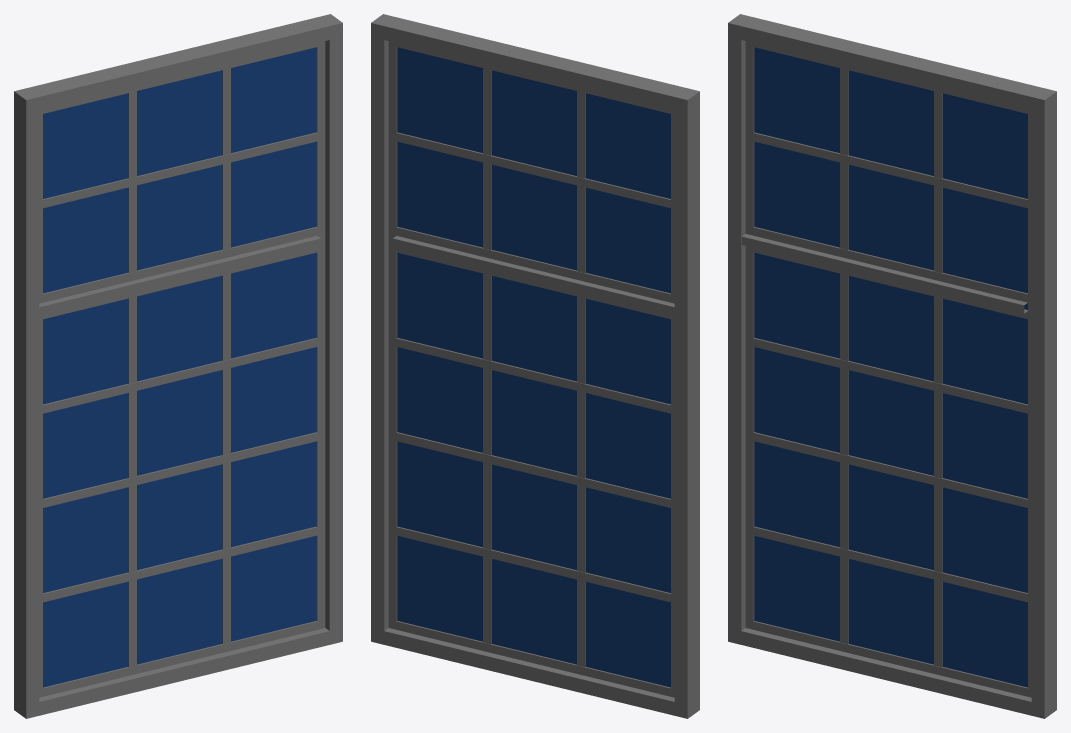
File: window1.FBX
3 renders of one model, left to right at view 1: azimuth 30°, elevation 25°; view 2: azimuth 150°, elevation 25°; view 3: azimuth 330°, elevation 25°, orthographic.
Parts seen in each view (by area): view 1: window004; view 2: window004; view 3: window004.
Part boxes in pixels (x1=…): window004: x1=14, y1=14, x2=342, y2=718; window004: x1=371, y1=14, x2=699, y2=718; window004: x1=728, y1=14, x2=1056, y2=718.
Size of the model in its own units: 180 by 336 by 12.
